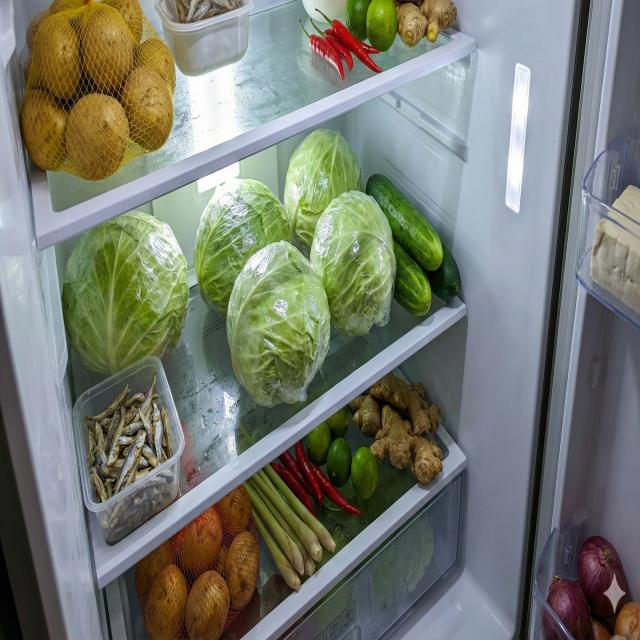anchovies: (85, 372, 177, 540)
cabbage: (62, 210, 190, 380), (225, 240, 331, 409), (194, 175, 292, 322), (310, 190, 397, 338), (283, 127, 364, 262)
chili: (269, 439, 362, 520), (299, 8, 383, 80)
cucumber: (366, 173, 461, 318)
ginger: (346, 371, 443, 484), (392, 0, 457, 48)
lemongrass: (241, 463, 336, 592)
lime: (306, 404, 378, 500), (345, 0, 398, 52)
onion: (542, 536, 640, 640)
potato: (19, 0, 177, 182), (135, 483, 260, 640)
tofu: (589, 183, 640, 317)
